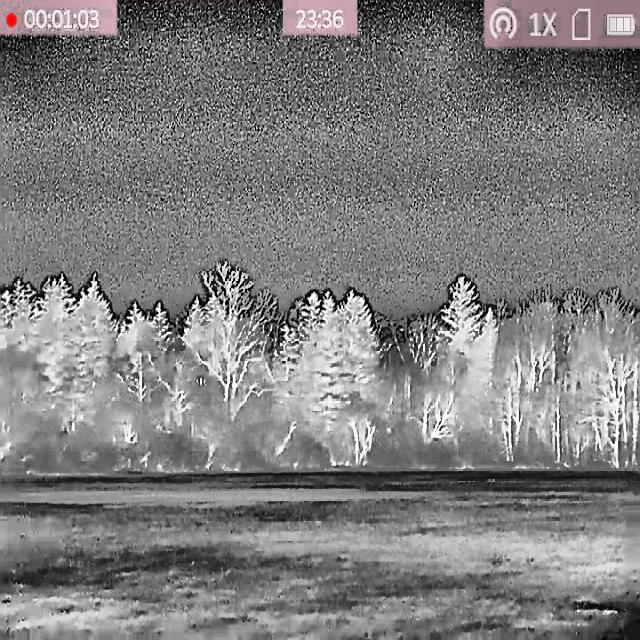drone: (196, 376, 207, 387)
